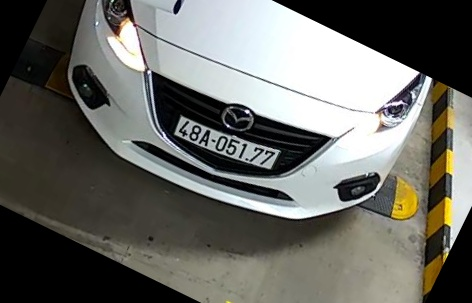plate: (170, 115, 280, 176)
